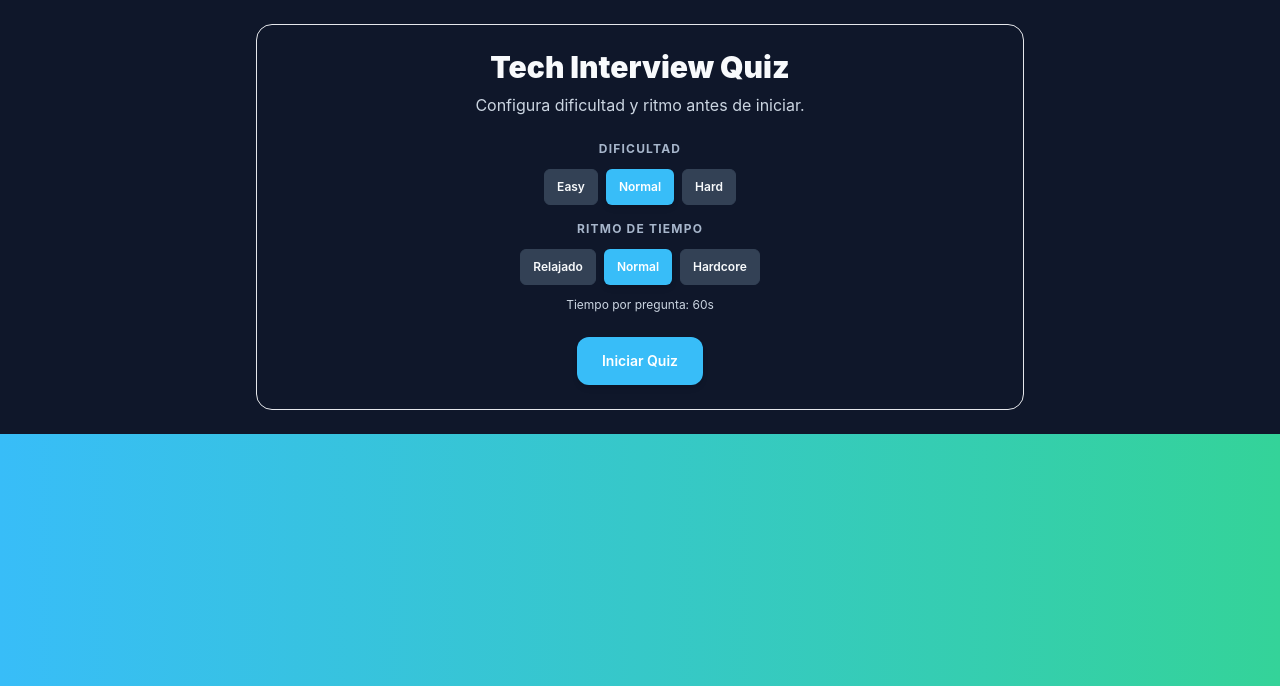
Test: StudyDocsQuizView › renders start panel and enters playing state
This screenshot has width=1280, height=686.
Expected: the heading "Tech Interview Quiz" is shown, [490,49,790,85]
Click the button "Iniciar Quiz" at (640, 361), box [577,337,703,385]
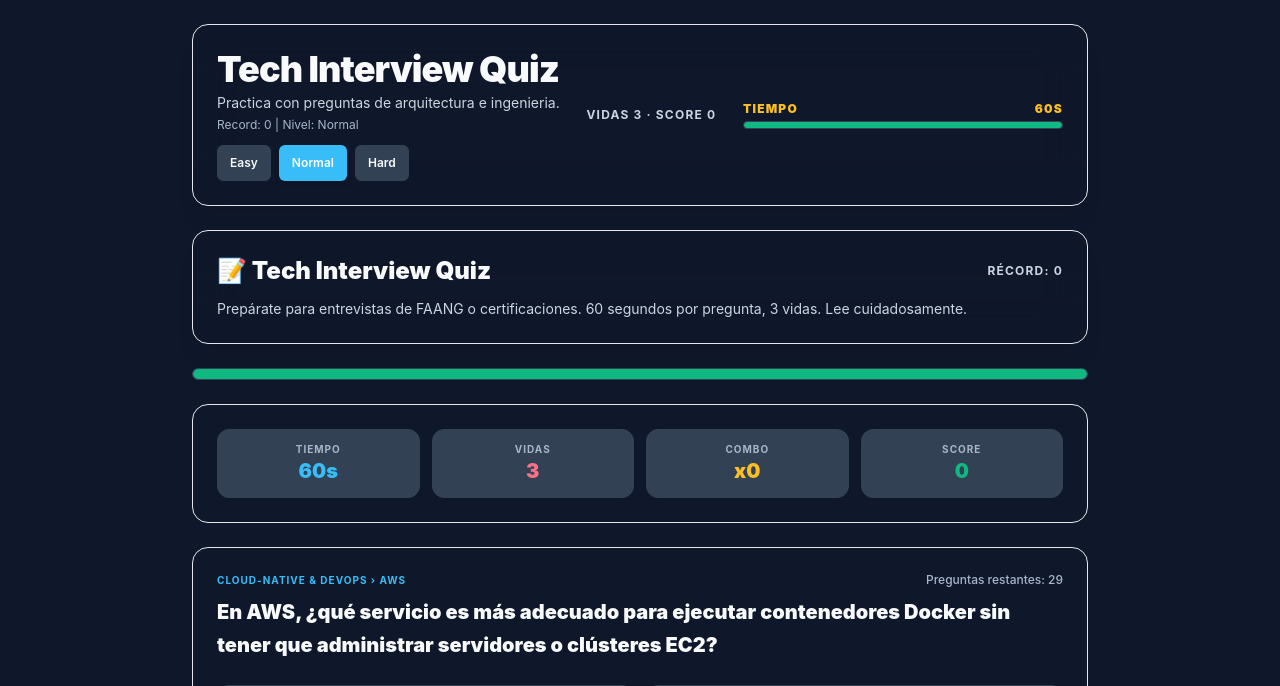
Expected: the text "Preguntas restantes: 29" is shown, [926,572,1063,588]
Expected: the button "Iniciar Quiz" is gone
